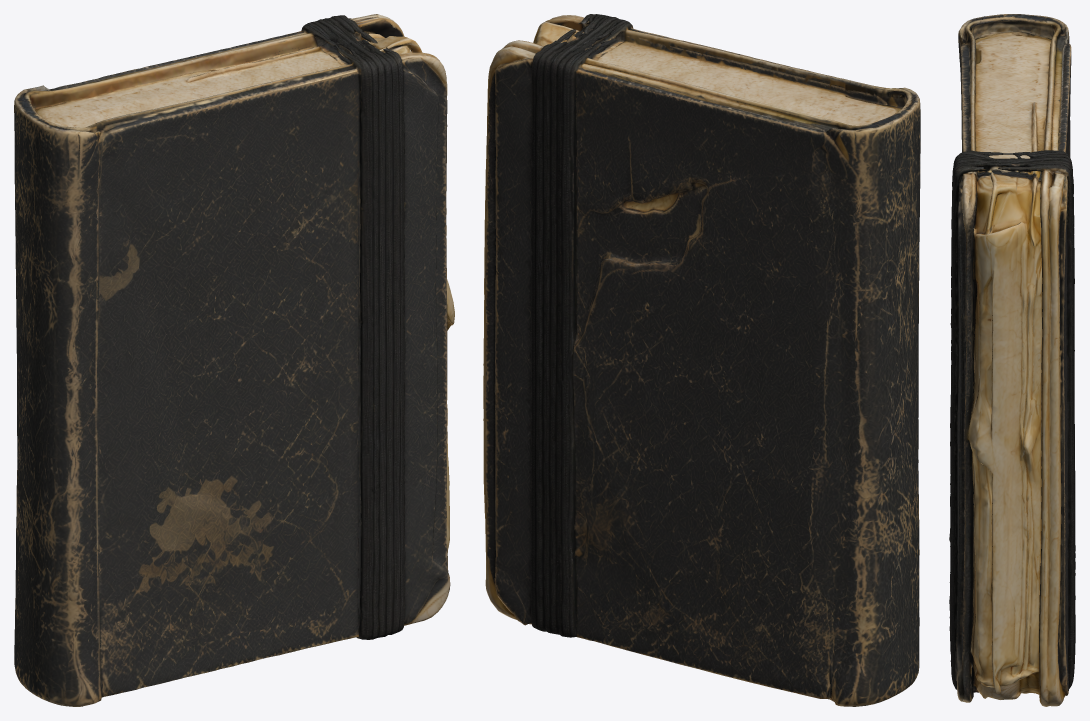
The model's file is Notebook.fbx.
3 renders of one model, left to right at view 1: azimuth 30°, elevation 25°; view 2: azimuth 150°, elevation 25°; view 3: azimuth 270°, elevation 25°, orthographic. The views are drawn at different scales.
Parts seen in each view (by area): view 1: texture_mapping; view 2: texture_mapping; view 3: texture_mapping.
Boxes of the visible parts, x1=… form: texture_mapping: x1=14, y1=14, x2=454, y2=706; texture_mapping: x1=483, y1=14, x2=920, y2=706; texture_mapping: x1=949, y1=14, x2=1075, y2=706.
Size of the model in its own units: 0.7395 by 0.2166 by 0.9991.
1 material, 1 textured.
